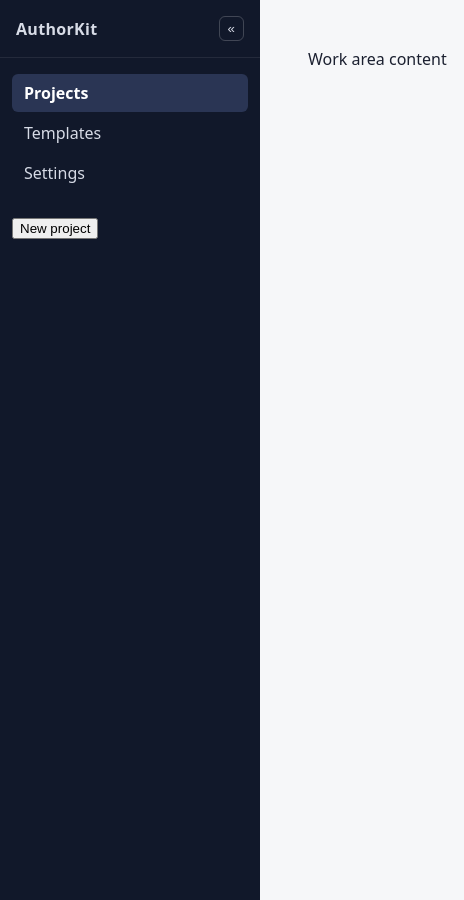
Test case: AppShell › toggles the collapse state
The width and height of the screenshot is (464, 900).
Click the button named "Collapse panel" at (231, 28), box [219,16,244,41]
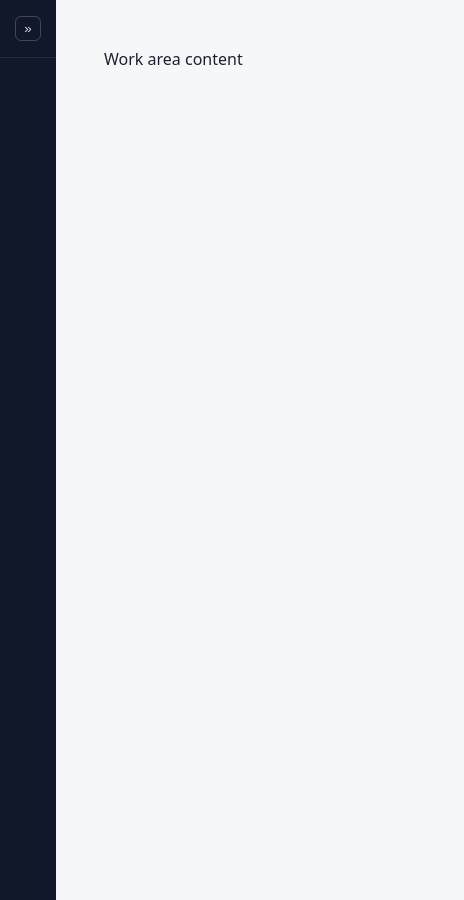
Expected: the button named "Expand panel" is collapsed, [15,16,41,41]
